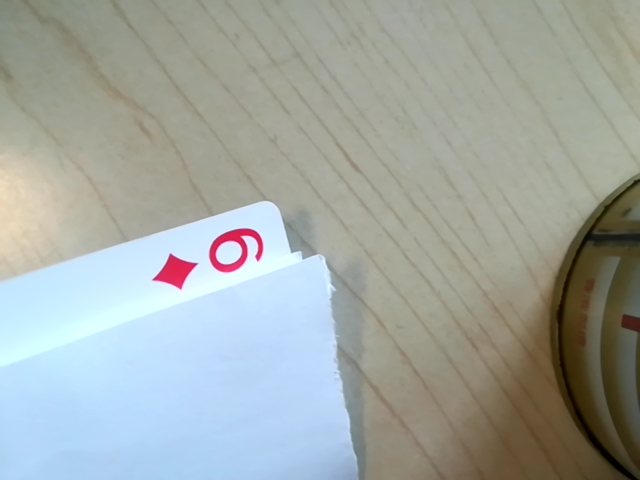fk 6: (156, 223, 278, 290)
